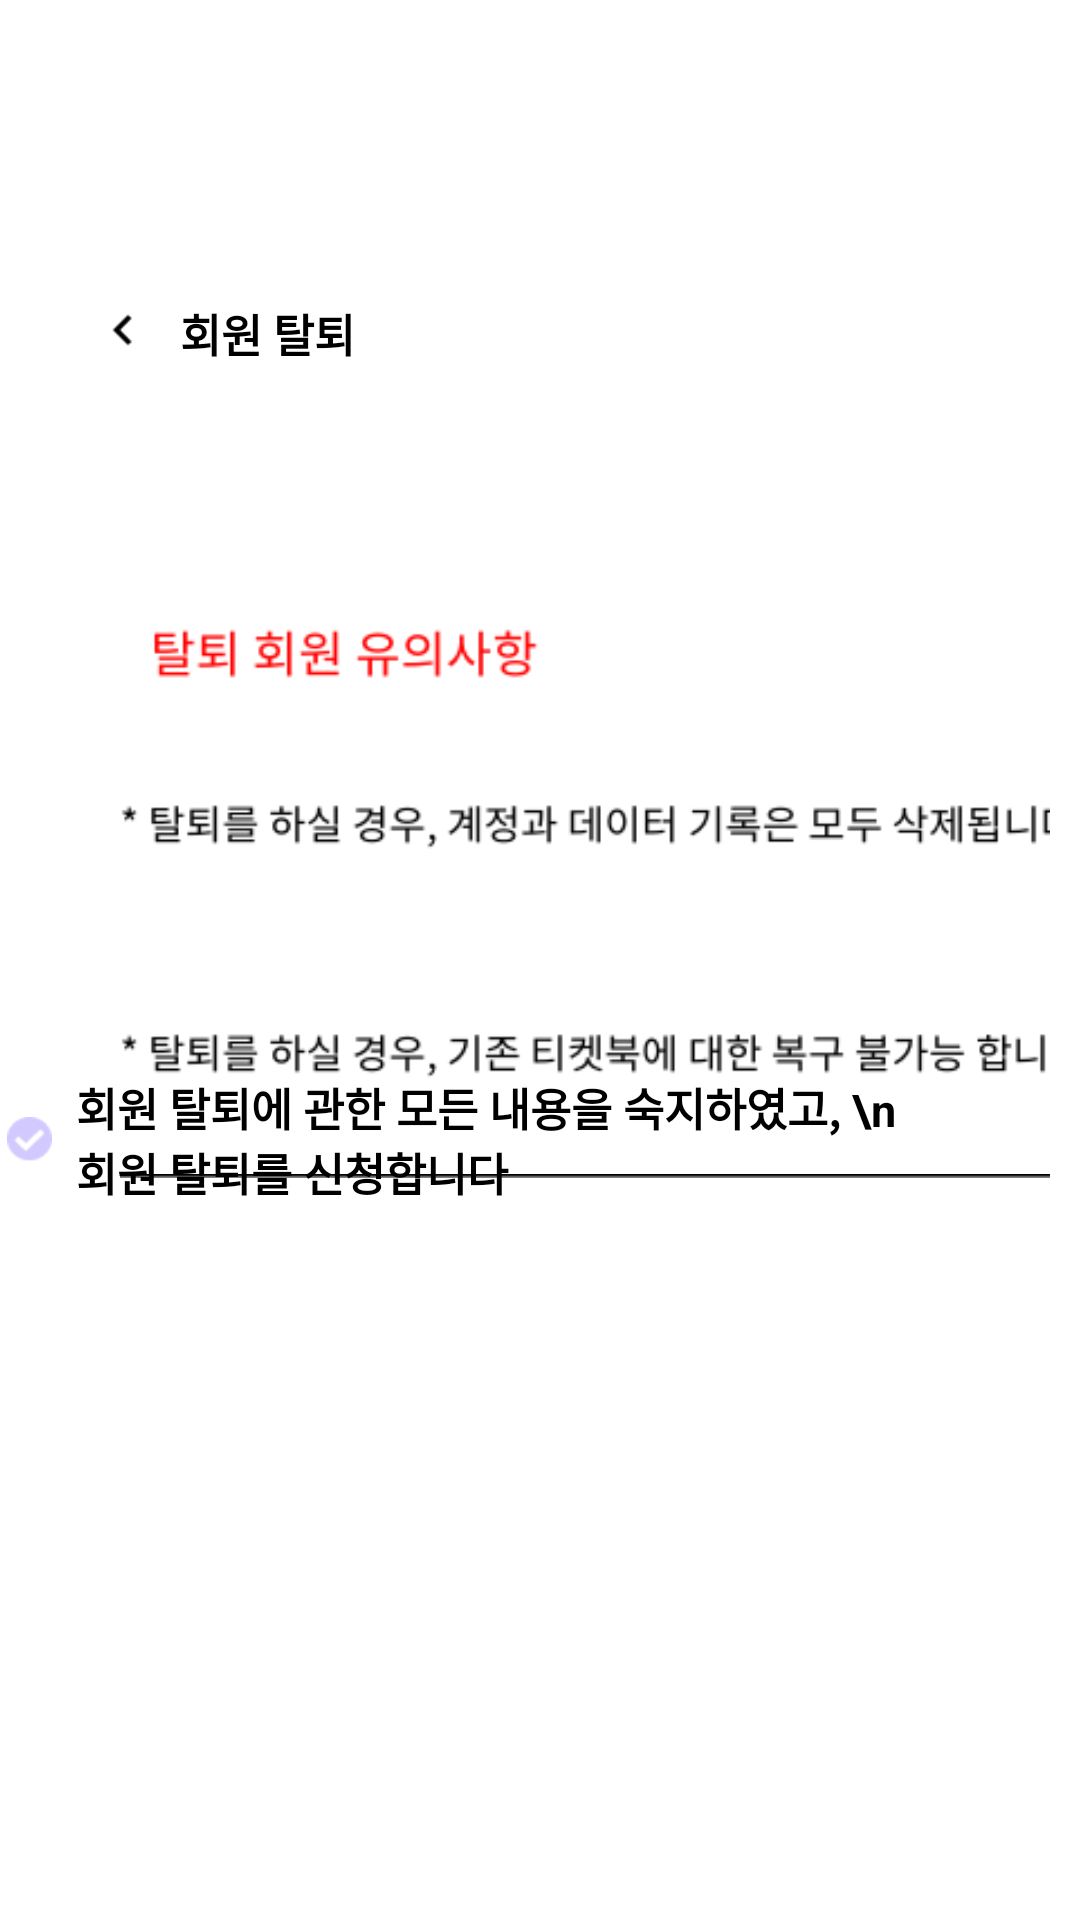

Named icons in this screenshot (1080w x 1920h) and their centers, [x,y]:
checkcircle: [29,1138]
iconblackleft: [122,330]
